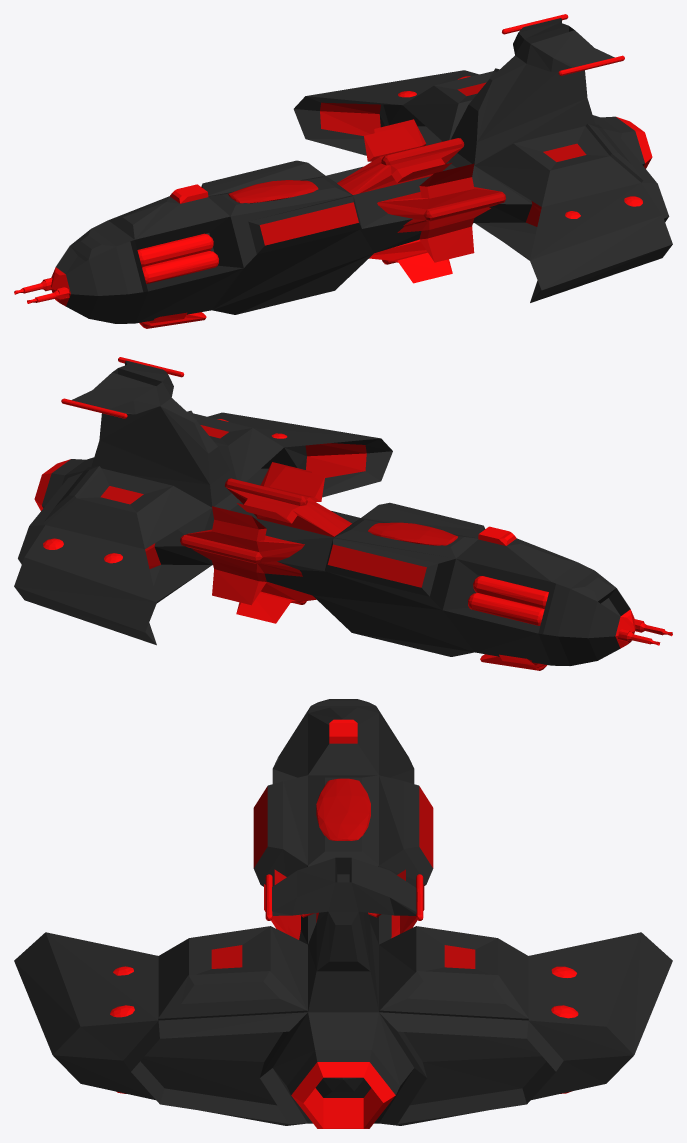
The model's file is Enemy.fbx.
3 renders of one model, top to bottom at view 1: azimuth 30°, elevation 25°; view 2: azimuth 150°, elevation 25°; view 3: azimuth 270°, elevation 25°, orthographic. The views are drawn at different scales.
Visible parts, largest first — view 1: ChamferCyl0034345; view 2: ChamferCyl0034345; view 3: ChamferCyl0034345.
Part boxes in pixels (x1,y1,x2,y2): ChamferCyl0034345: (14,14,672,328); ChamferCyl0034345: (14,357,672,670); ChamferCyl0034345: (14,699,672,1128).
Size of the model in its own units: 2310 by 716 by 1611.
